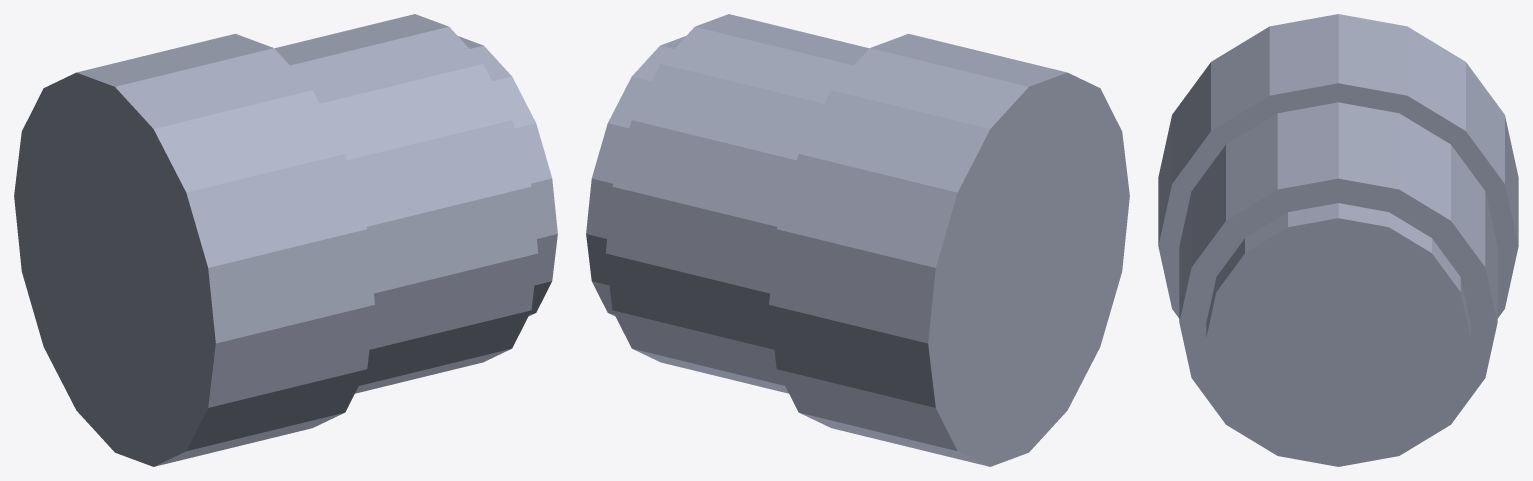
The model's file is drive.obj.
The picture shows the model from 3 angles, left to right: view 1: azimuth 30°, elevation 25°; view 2: azimuth 150°, elevation 25°; view 3: azimuth 270°, elevation 25°; orthographic projection. The views are drawn at different scales.
Visible parts, largest first — view 1: Cylinder-mesh; view 2: Cylinder-mesh; view 3: Cylinder-mesh.
Boxes of the visible parts, x1,y1,x2,y2 form: Cylinder-mesh: (14, 14, 557, 466); Cylinder-mesh: (586, 14, 1129, 466); Cylinder-mesh: (1158, 14, 1518, 466).
Size of the model in its own units: 0.1148 by 0.1088 by 0.1088.
